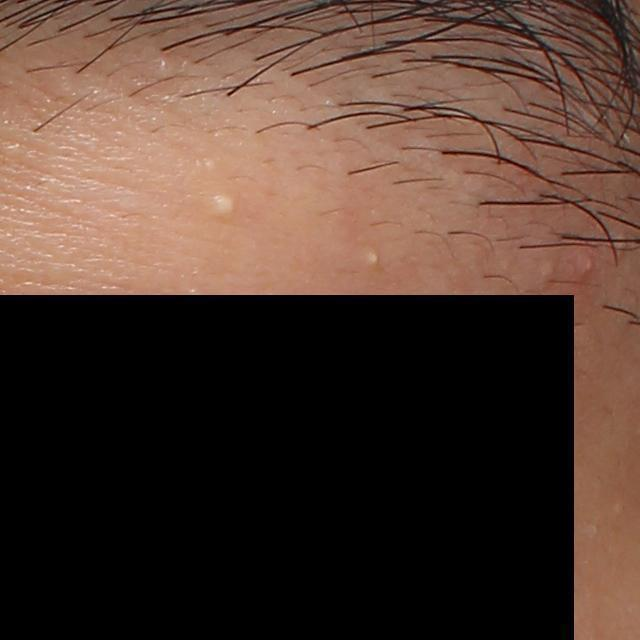other: (208, 187, 237, 218), (364, 248, 380, 270)
